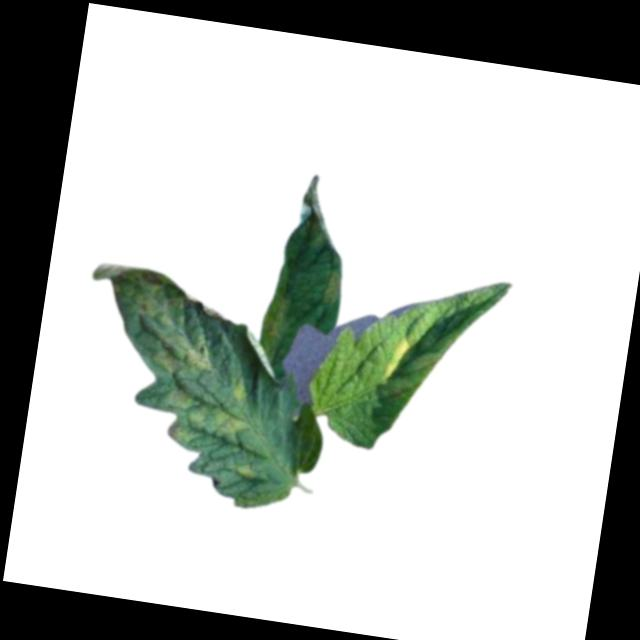Leaf_Mold: (81, 257, 226, 379), (153, 386, 250, 455), (379, 332, 412, 384), (224, 370, 251, 404), (321, 272, 345, 305), (233, 456, 257, 479)
